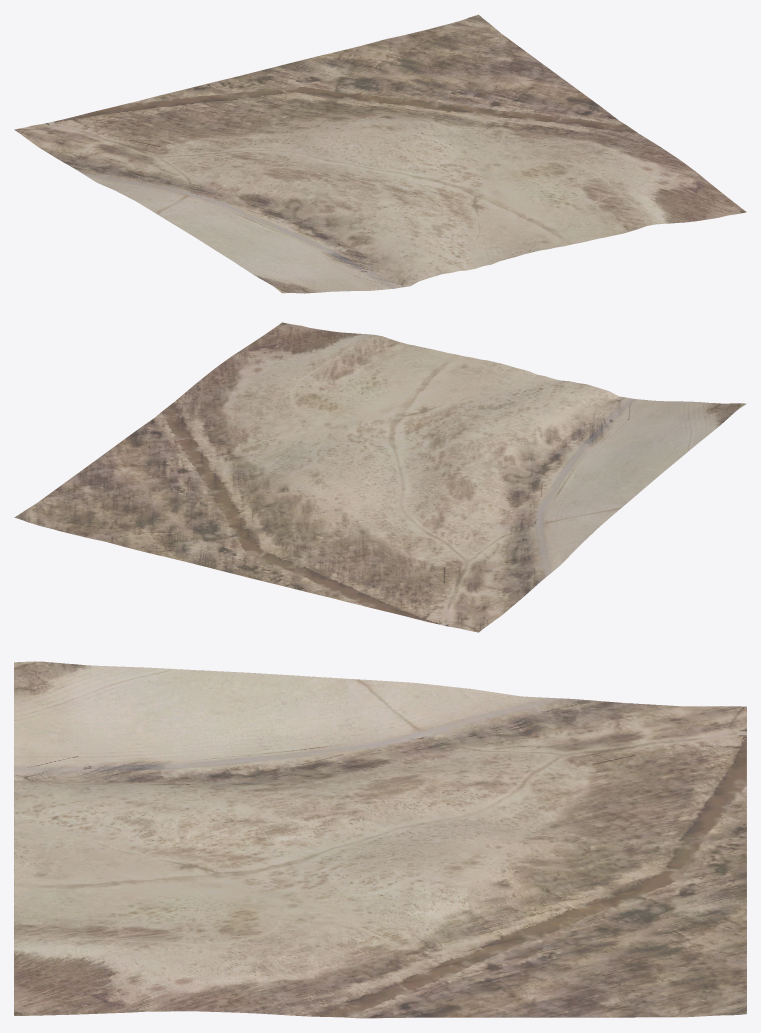
File: CM_Terrain_24492711_6817541.fbx
The picture shows the model from 3 angles, top to bottom: view 1: azimuth 30°, elevation 25°; view 2: azimuth 150°, elevation 25°; view 3: azimuth 270°, elevation 25°; orthographic projection. The views are drawn at different scales.
Parts seen in each view (by area): view 1: CM_Terrain_24492711_6817541_LOD0; view 2: CM_Terrain_24492711_6817541_LOD0; view 3: CM_Terrain_24492711_6817541_LOD0.
Part boxes in pixels (box(x1,y1,x2,y2)): CM_Terrain_24492711_6817541_LOD0: box(14, 14, 746, 293); CM_Terrain_24492711_6817541_LOD0: box(14, 322, 746, 632); CM_Terrain_24492711_6817541_LOD0: box(14, 661, 746, 1018).
Size of what is drawn, in the model's own units: 205 by 14.76 by 205.
